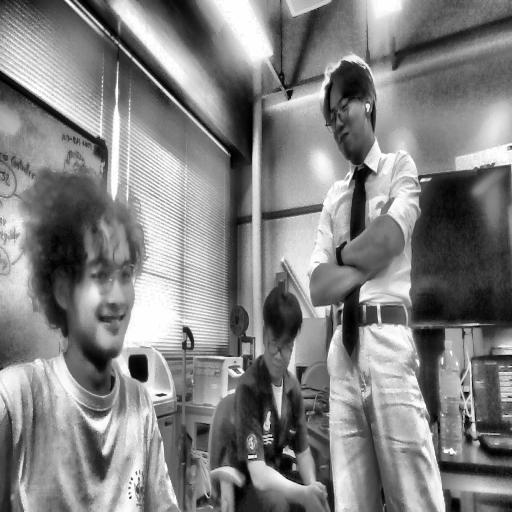Daifuku: (28, 162, 142, 353)
Not Daifuku: (320, 50, 378, 160), (261, 276, 301, 384)
